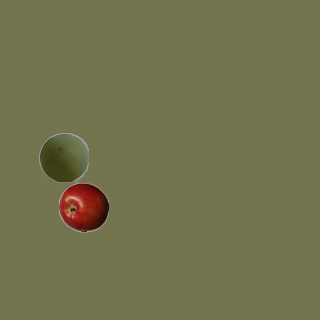Apple Braeburn: (58, 182, 108, 232)
Grape White 4: (38, 132, 88, 182)
